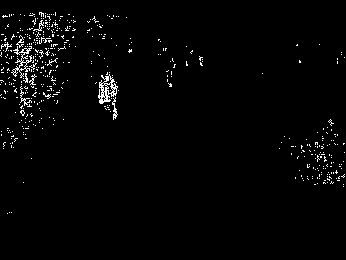person: (96, 67, 121, 125)
